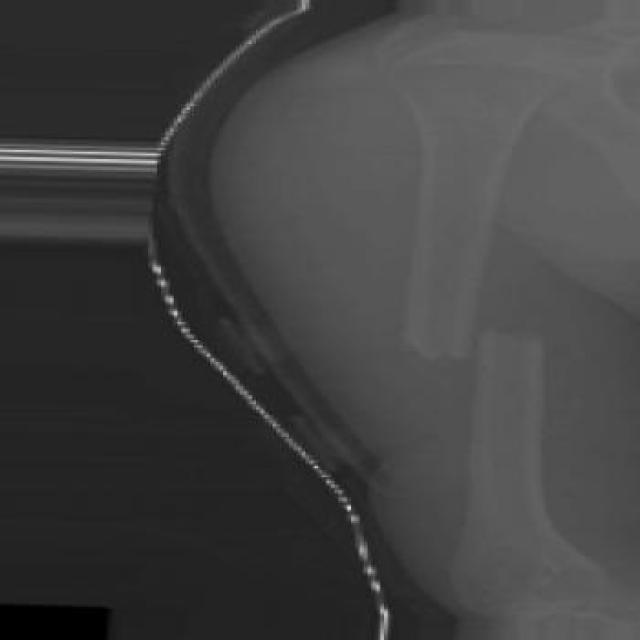Fracture: (393, 311, 565, 373)
